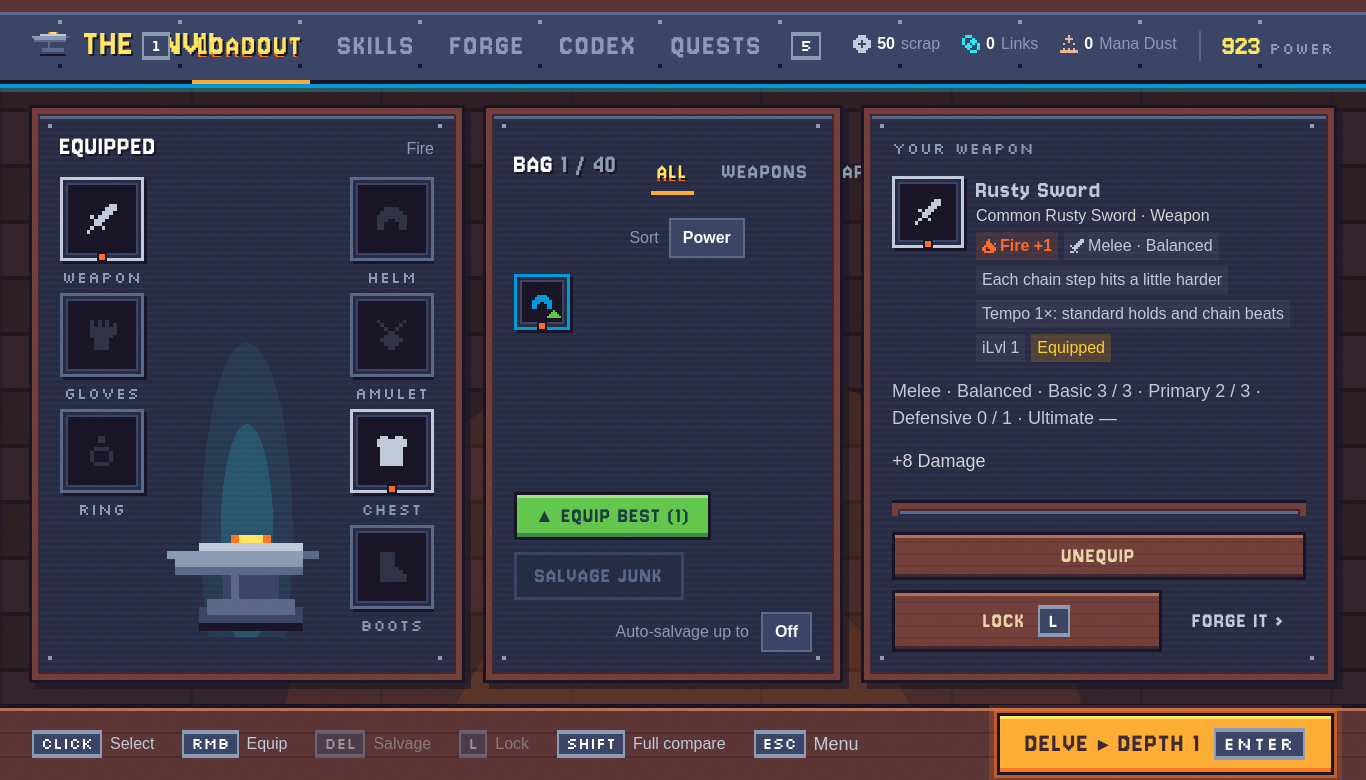
Test: AnvilHub › a link wins over the memory, and a salvaged tile is forgotten
Click the button with test id "bag-item".
click(542, 302)  # box [514,274,570,330]
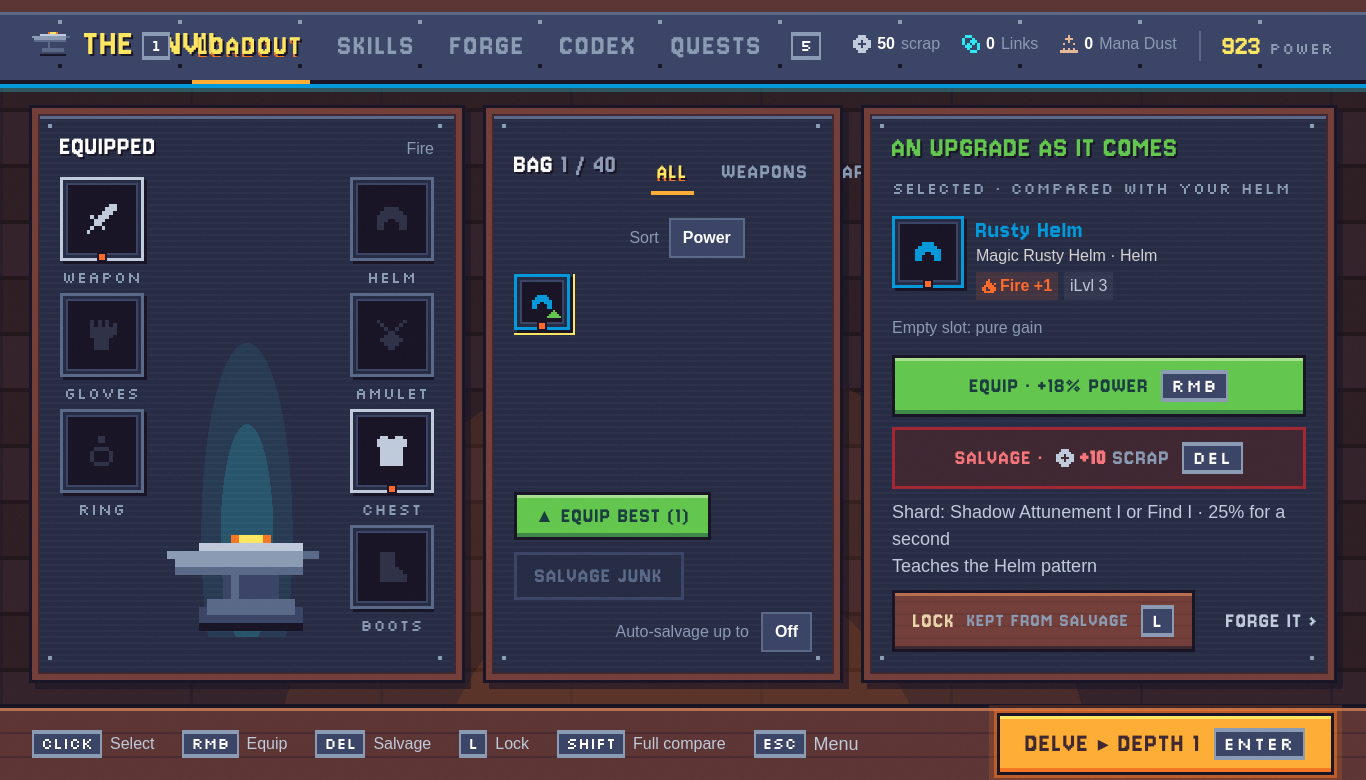
Click the tab with test id "tab-skills".
click(377, 48)  # box [332,12,422,84]
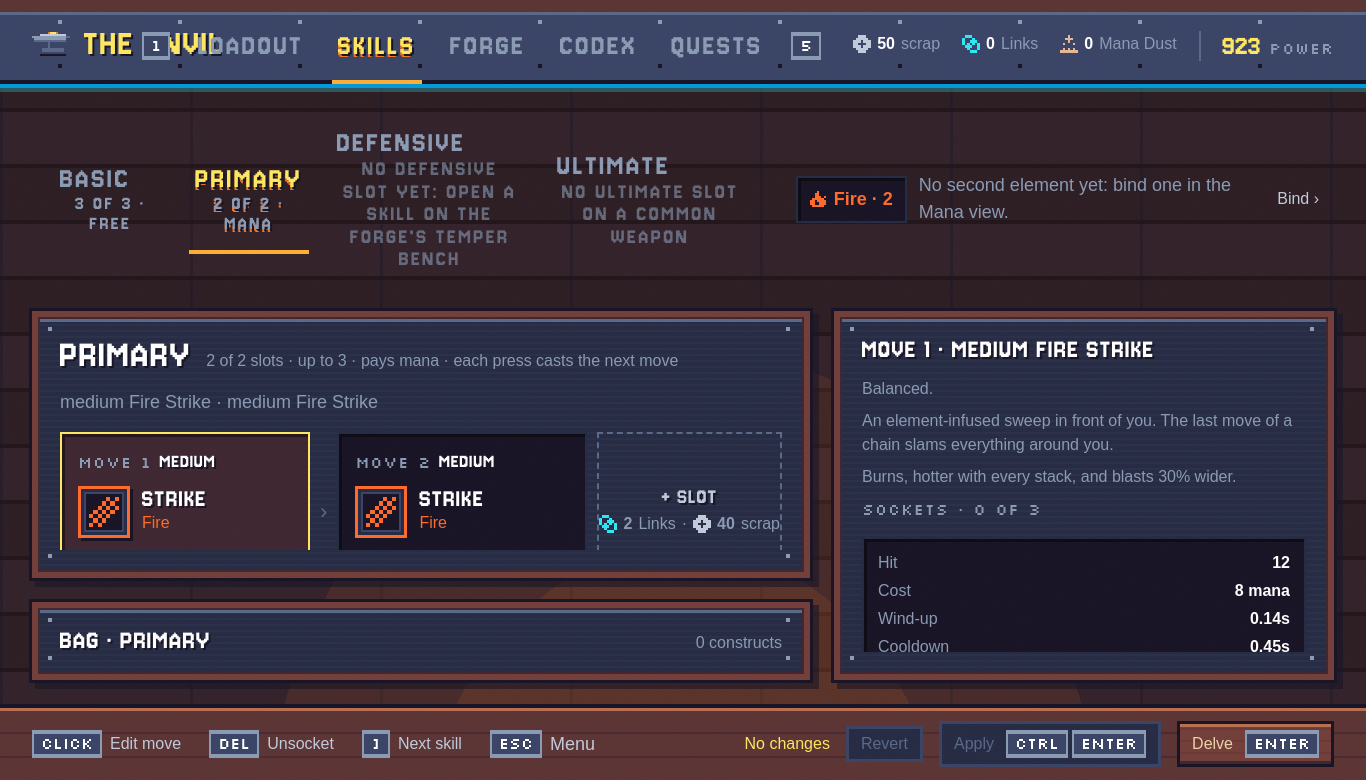
Click the tab with test id "tab-loadout".
click(251, 48)  # box [192,12,310,84]
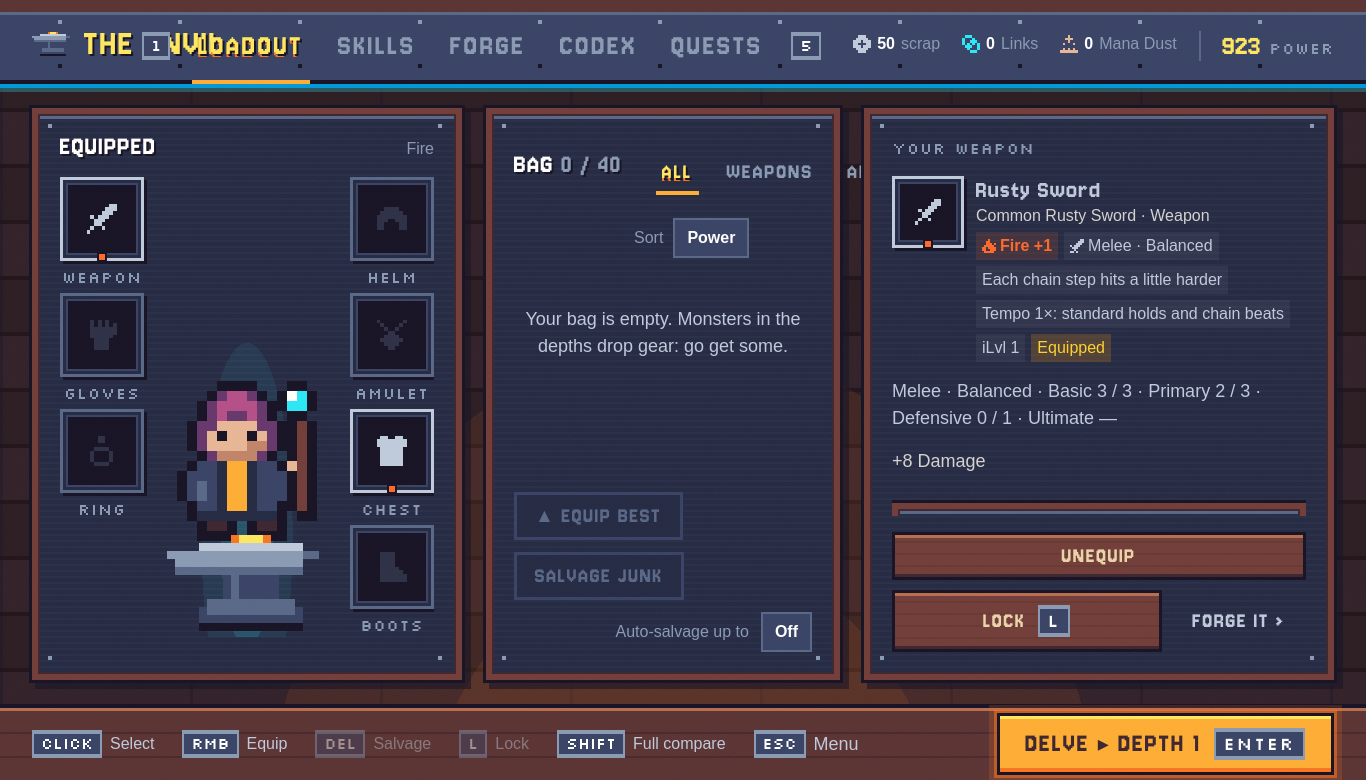
Now the element with test id "item-sheet" shows "Your weapon", box [892,138,1035,158]
